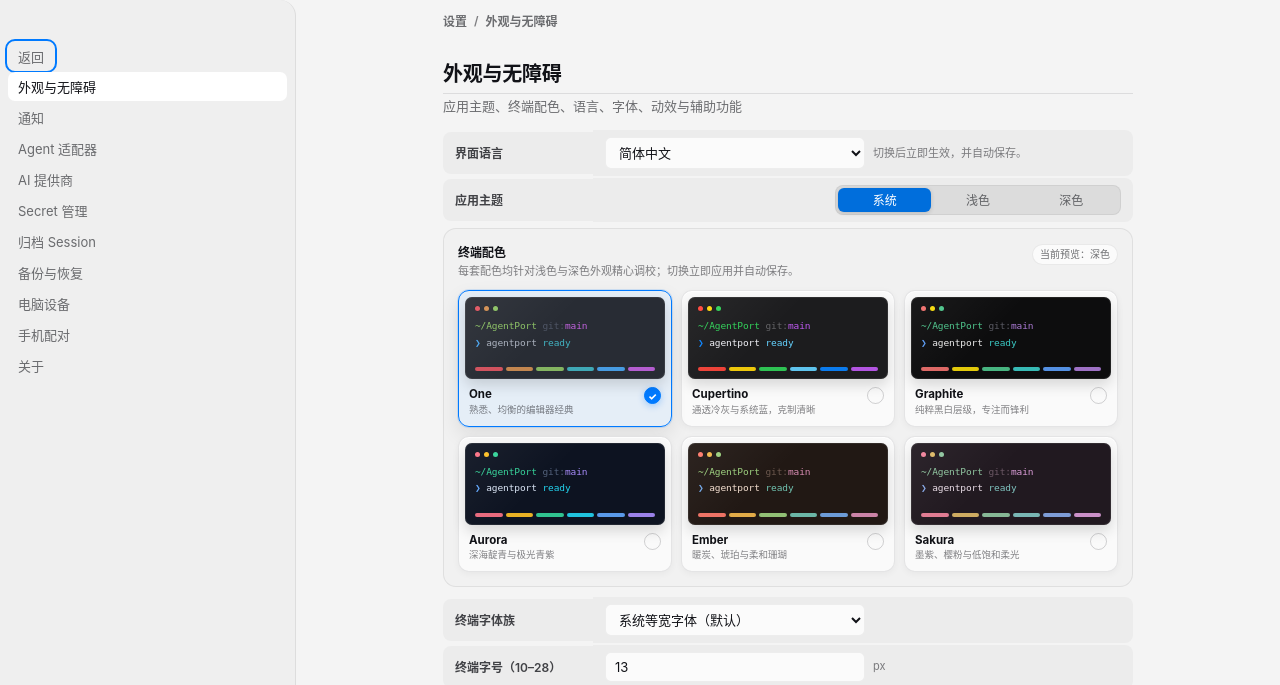
Test: Settings language preference › rolls i18n, store, draft, html lang, and startup hint back when saving fails
This screenshot has width=1280, height=685.
Select "English" in the dropdown labelled "界面语言" at (735,153), box 605,137 -> 865,169
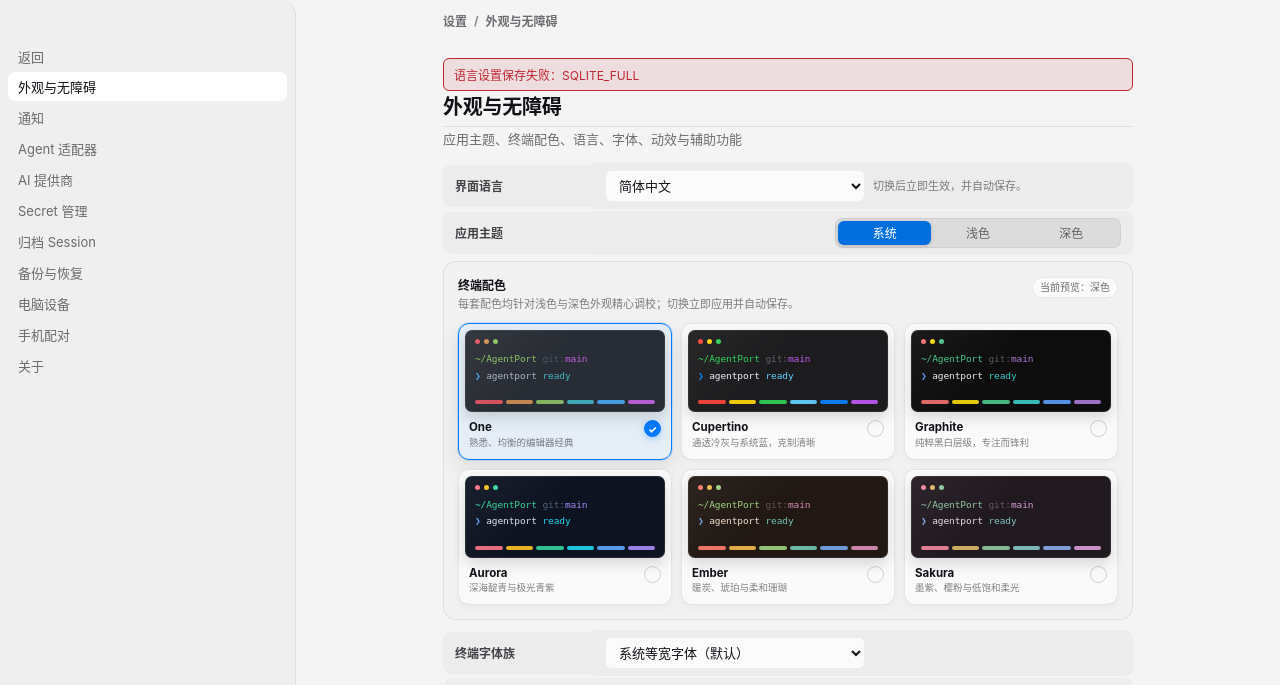
Check: the message shows "SQLITE_FULL", box 454,68 -> 639,83
